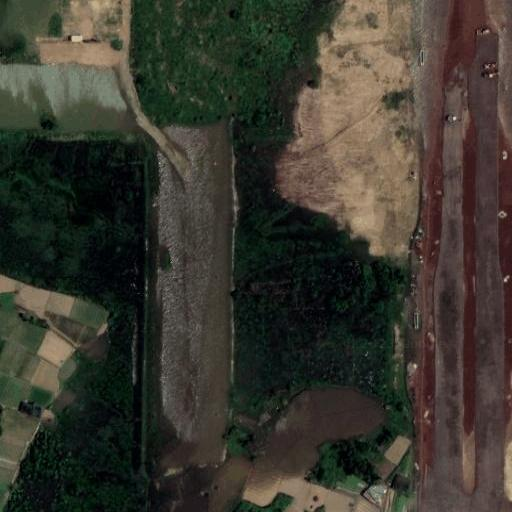building: (370, 430, 414, 481), (364, 482, 386, 504), (18, 400, 42, 419), (393, 475, 411, 493), (71, 35, 82, 42)
